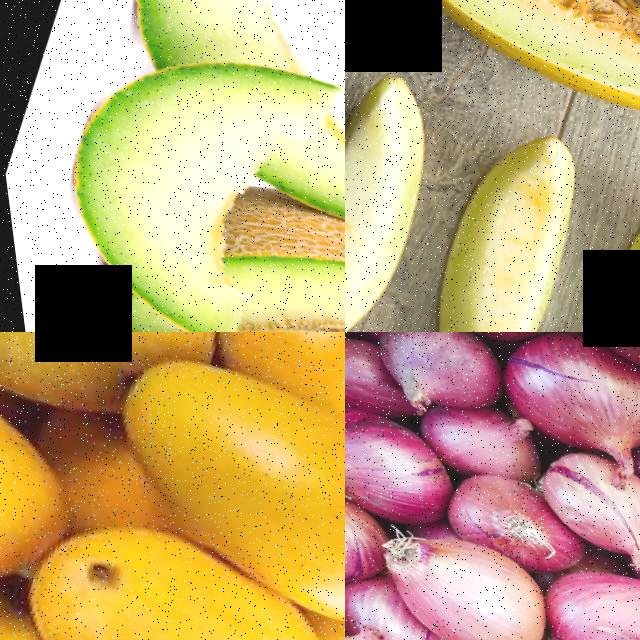mango: (68, 332, 345, 640), (0, 485, 345, 640)
melon: (13, 0, 335, 332), (360, 106, 622, 332), (345, 0, 640, 183), (345, 51, 480, 332), (157, 188, 345, 332), (511, 163, 640, 332)
onion: (355, 511, 563, 640), (486, 332, 640, 472), (345, 387, 466, 538), (359, 332, 524, 422), (529, 445, 640, 565), (518, 543, 640, 640), (345, 473, 403, 602), (381, 332, 574, 356)
